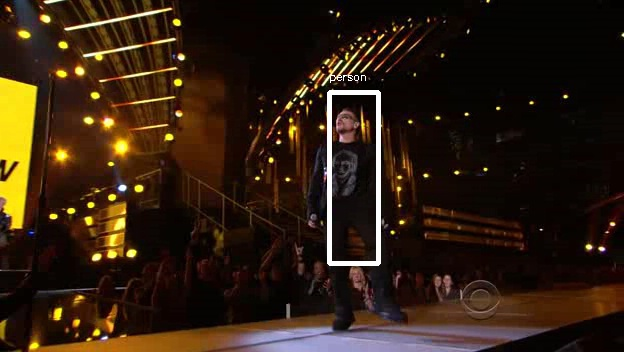person: (311, 111, 381, 231), (308, 111, 378, 231), (314, 111, 384, 231), (311, 108, 381, 228), (311, 114, 381, 234)
target_negative: (61, 207, 579, 312), (195, 107, 341, 269), (448, 213, 548, 351), (437, 294, 617, 318), (235, 309, 353, 333), (593, 135, 595, 173)
